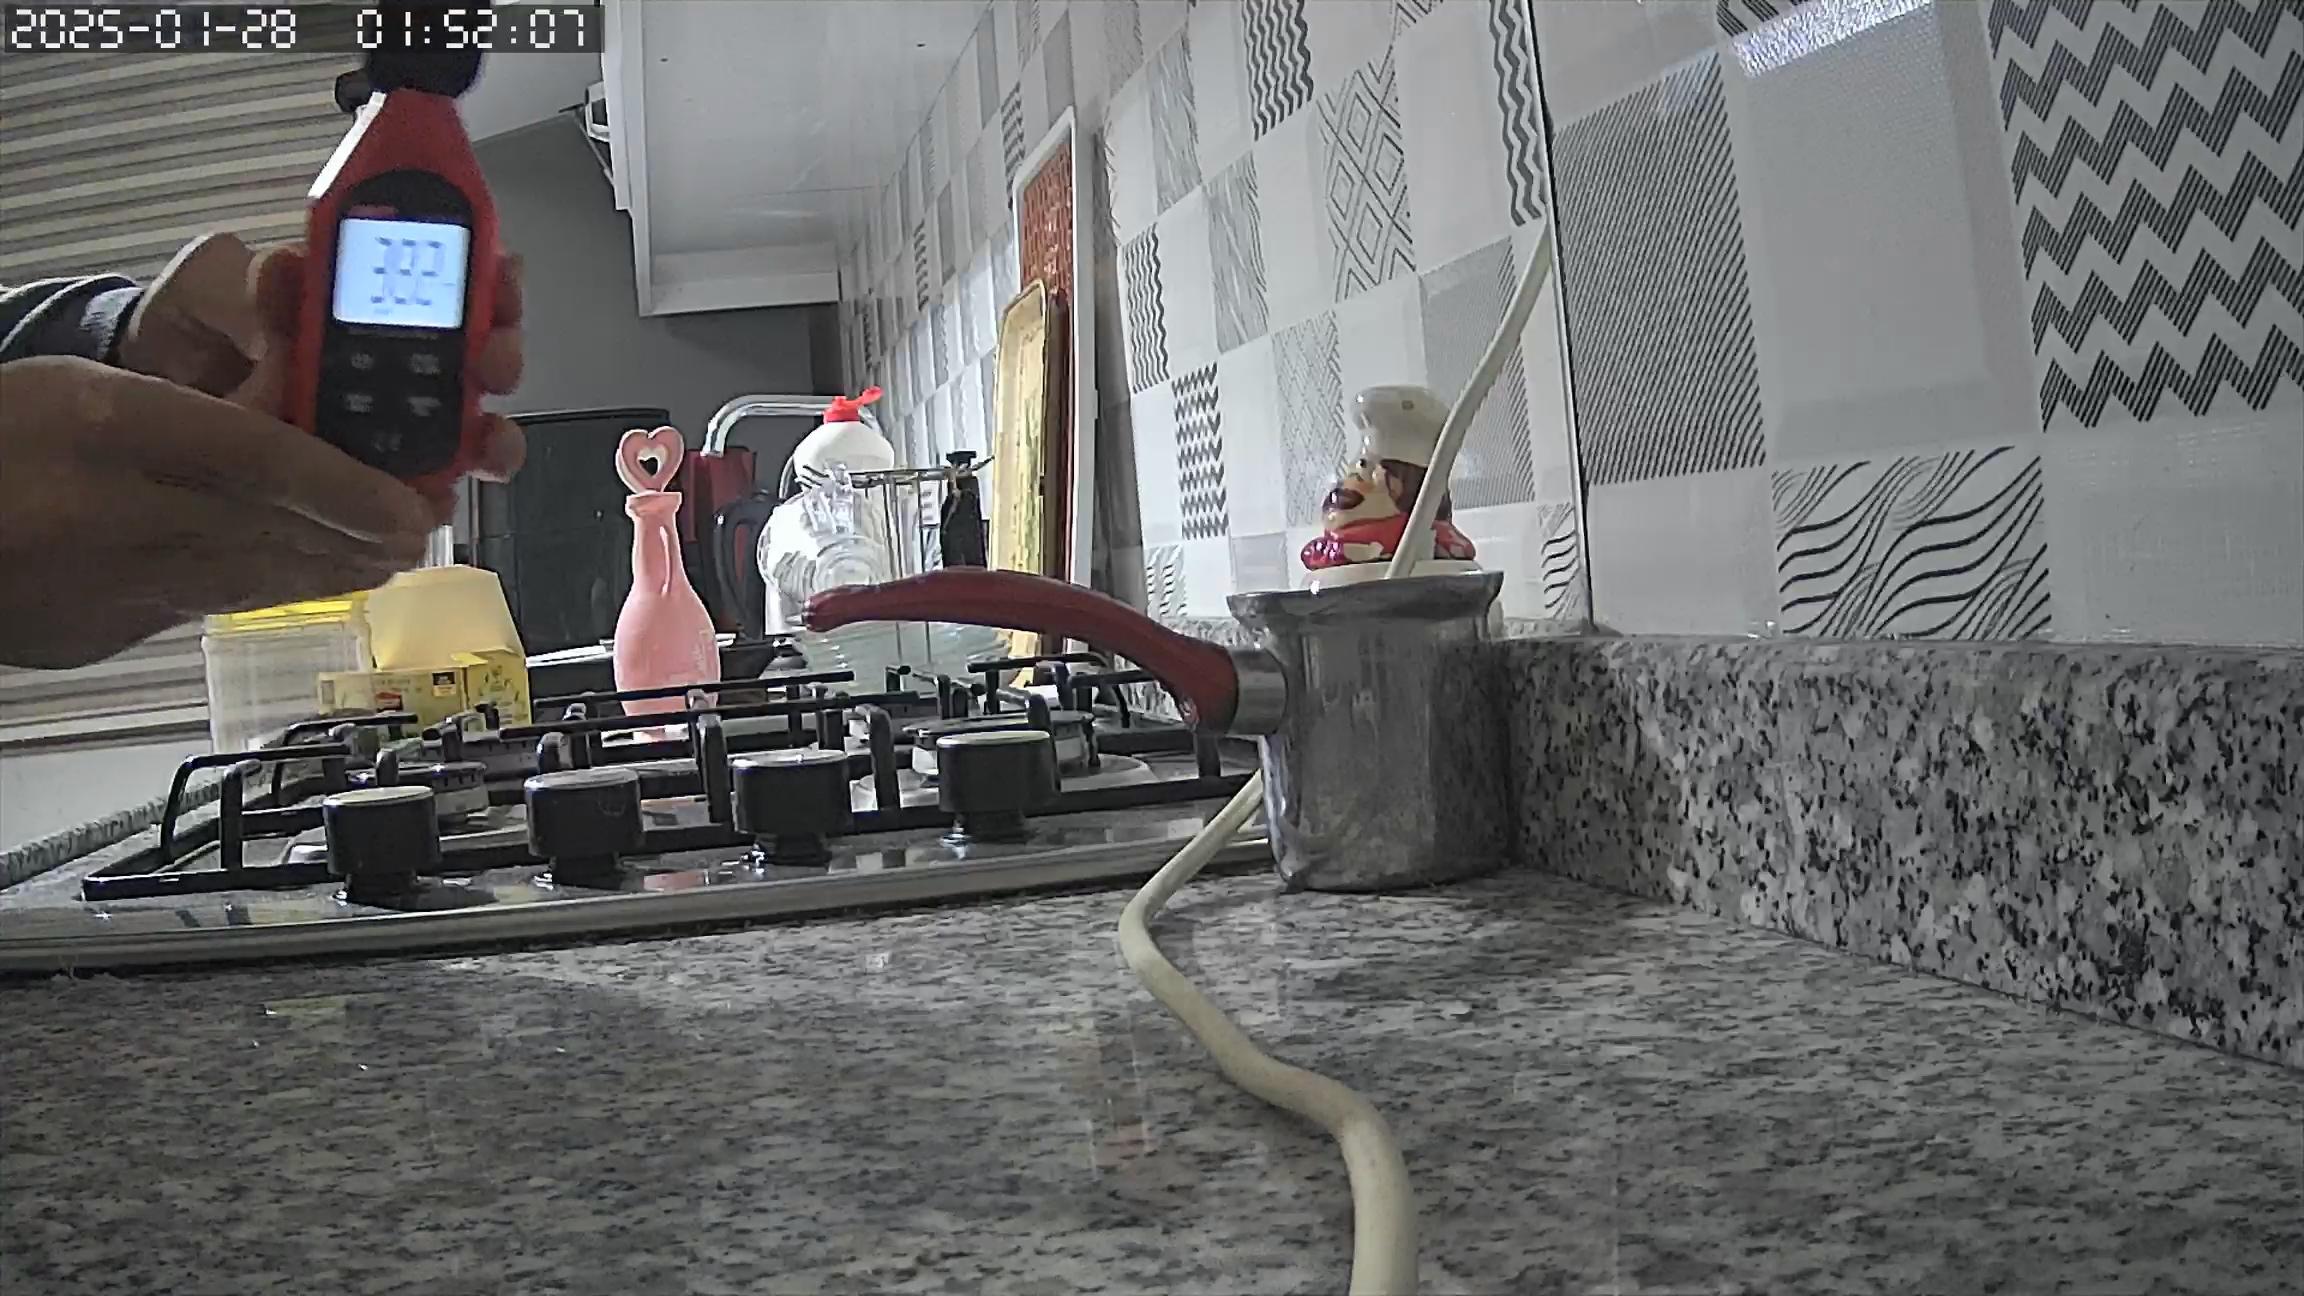screen: (329, 214, 468, 331)
